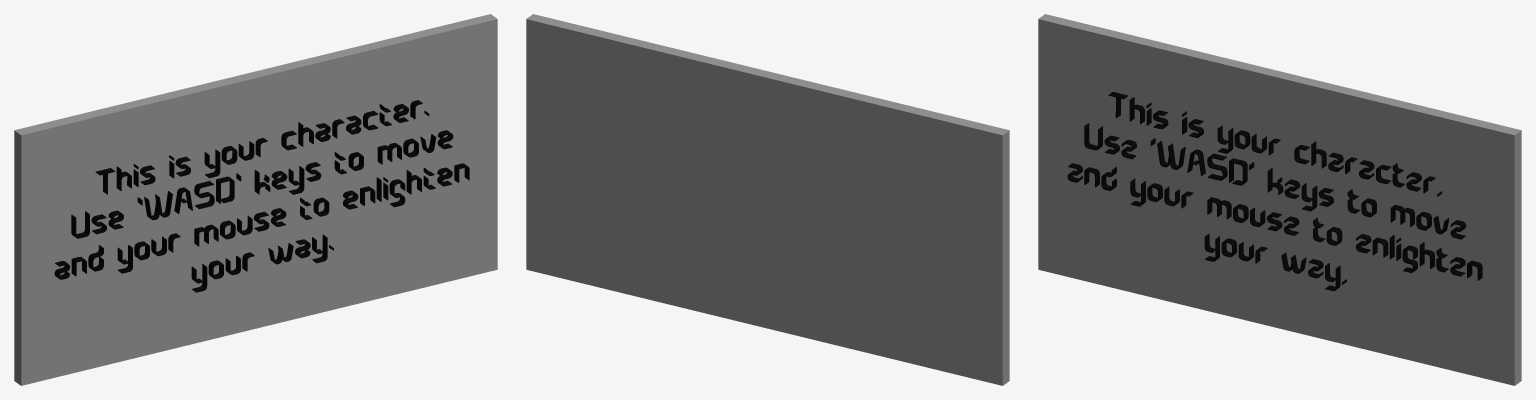
Rendered from Cartel_Player.fbx.
3 renders of one model, left to right at view 1: azimuth 30°, elevation 25°; view 2: azimuth 150°, elevation 25°; view 3: azimuth 330°, elevation 25°, orthographic.
Visible parts, largest first — view 1: root, node_id73 (×4); view 2: root; view 3: root, node_id73 (×4).
Boxes of the visible parts, x1,y1,x2,y2 form: root: (14,14,497,385); node_id73 (×4): (54,100,469,292); root: (526,14,1009,385); root: (1038,14,1521,385); node_id73 (×4): (1067,92,1482,291).
Size of the model in its own units: 0.511 by 0.2568 by 0.0205.
5 materials, 5 textured.
